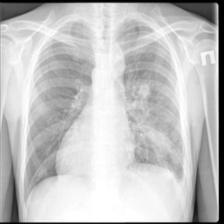tuberculosis: (20, 15, 191, 196)
